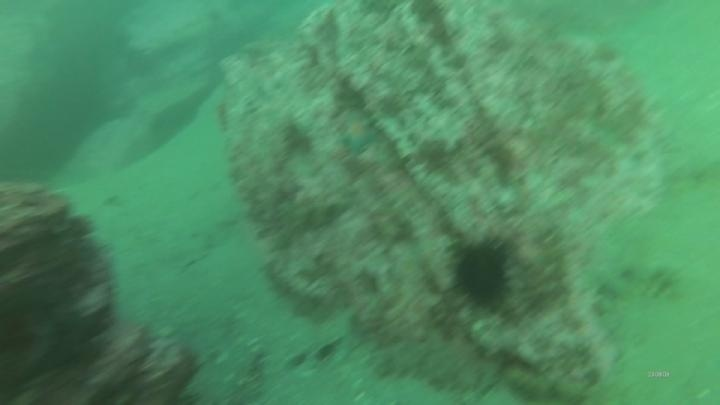echinus: (446, 233, 519, 314)
holothurian: (367, 336, 505, 397), (580, 254, 688, 306)
starfish: (334, 109, 383, 158)
